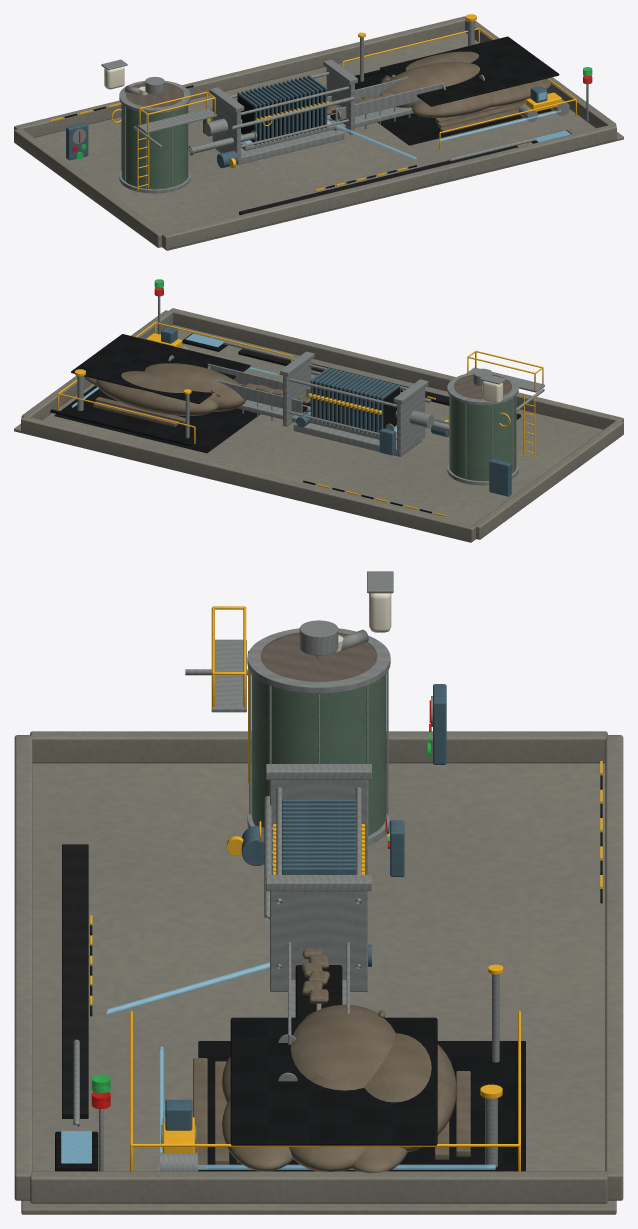
File: Level13_DryStack_IndustrialUV.fbx
3 renders of one model, top to bottom at view 1: azimuth 30°, elevation 25°; view 2: azimuth 150°, elevation 25°; view 3: azimuth 270°, elevation 25°, orthographic. The views are drawn at different scales.
Parts seen in each view (by area): view 1: Containment_Concrete_Pad, Raised_Containment_Berm_South, Raised_Containment_Berm_North, DryStack_SafeCover, Neutralization_Tank_Shell, Raised_Containment_Berm_West, Black_Geomembrane_Lined_DryPad, DryStack_Pile_0, Neutralization_Tank_Top_Rim, FilterPress_Base_Skid, Raised_Containment_Berm_East, DryStack_Pile_3 (+26 smaller); view 2: Containment_Concrete_Pad, Raised_Containment_Berm_North, Raised_Containment_Berm_South, Neutralization_Tank_Shell, DryStack_SafeCover, Black_Geomembrane_Lined_DryPad, Raised_Containment_Berm_West, DryStack_Pile_1, DryStack_Pile_0, Raised_Containment_Berm_East, Neutralization_Tank_Top_Rim, FilterPress_End_Frame_-3.5 (+18 smaller); view 3: Containment_Concrete_Pad, Raised_Containment_Berm_East, DryStack_SafeCover, Raised_Containment_Berm_West, Neutralization_Tank_Shell, Black_Geomembrane_Lined_DryPad, Raised_Containment_Berm_North, Raised_Containment_Berm_South, FilterPress_End_Frame_+2.5, Filtrate_Drainage_Channel, DryStack_Pile_0, Neutralization_Tank_Top_Rim (+23 smaller).
Boxes of the visible parts, x1,y1,x2,y2 form: Containment_Concrete_Pad: (34, 33, 623, 250); Raised_Containment_Berm_South: (162, 124, 616, 249); Raised_Containment_Berm_North: (14, 16, 465, 137); DryStack_SafeCover: (380, 36, 559, 106); Neutralization_Tank_Shell: (121, 104, 187, 189); Raised_Containment_Berm_West: (14, 128, 164, 247); Black_Geomembrane_Lined_DryPad: (355, 72, 552, 145); DryStack_Pile_0: (383, 61, 479, 107); Neutralization_Tank_Top_Rim: (119, 81, 190, 113); FilterPress_Base_Skid: (216, 129, 344, 164); Raised_Containment_Berm_East: (465, 20, 616, 128); DryStack_Pile_3: (412, 91, 494, 117); Containment_Concrete_Pad: (14, 324, 603, 542); Raised_Containment_Berm_North: (21, 416, 475, 541); Raised_Containment_Berm_South: (169, 308, 623, 429); Neutralization_Tank_Shell: (450, 396, 516, 481); DryStack_SafeCover: (71, 334, 250, 403); Black_Geomembrane_Lined_DryPad: (54, 385, 260, 453); Raised_Containment_Berm_West: (473, 420, 623, 539); DryStack_Pile_1: (96, 371, 217, 415); DryStack_Pile_0: (145, 363, 246, 411); Raised_Containment_Berm_East: (21, 310, 172, 420); Neutralization_Tank_Top_Rim: (447, 372, 518, 405); FilterPress_End_Frame_-3.5: (397, 388, 425, 454); Containment_Concrete_Pad: (21, 763, 616, 1214); Raised_Containment_Berm_East: (30, 1171, 607, 1203); DryStack_SafeCover: (230, 1017, 437, 1145); Raised_Containment_Berm_West: (30, 731, 607, 763); Neutralization_Tank_Shell: (252, 674, 385, 835); Black_Geomembrane_Lined_DryPad: (198, 1041, 525, 1171); Raised_Containment_Berm_North: (605, 735, 623, 1200); Raised_Containment_Berm_South: (14, 735, 32, 1200); FilterPress_End_Frame_+2.5: (270, 891, 367, 991); Filtrate_Drainage_Channel: (62, 844, 88, 1118); DryStack_Pile_0: (290, 1004, 395, 1090); Neutralization_Tank_Top_Rim: (247, 628, 390, 693).
Bounding box in the file's own units: 2486 × 575 × 1412.
Materials: 16 (16 with a texture image).
